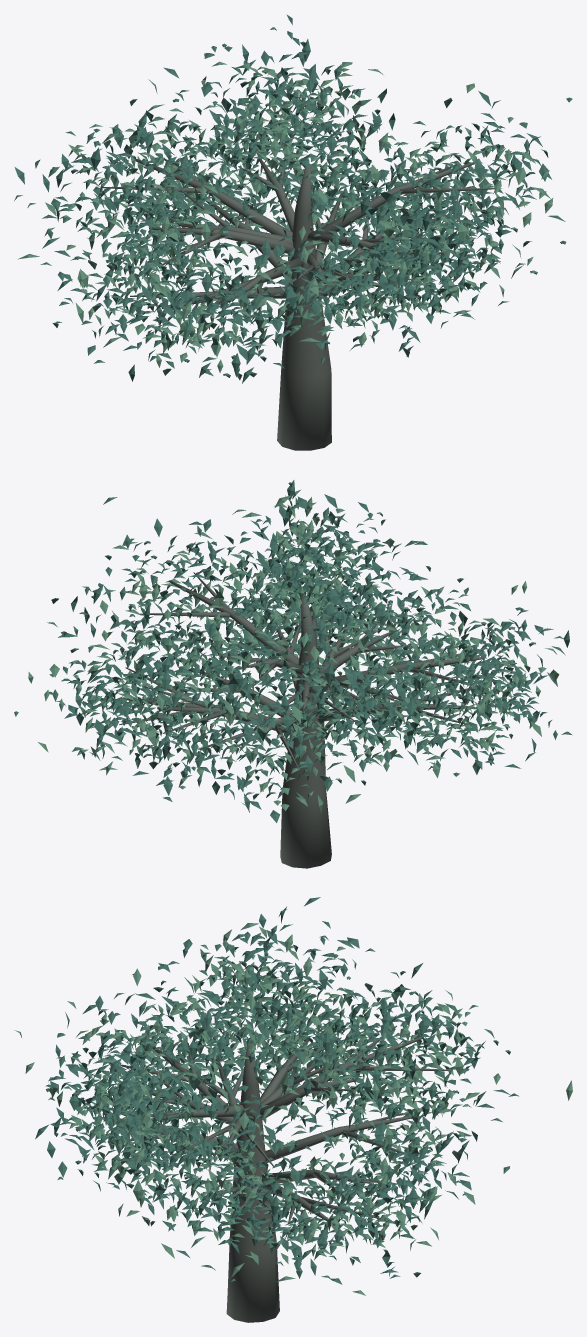
File: banyan.glb
3 renders of one model, top to bottom at view 1: azimuth 30°, elevation 25°; view 2: azimuth 150°, elevation 25°; view 3: azimuth 270°, elevation 25°, orthographic. The views are drawn at different scales.
Visible parts, largest first — view 1: Moonwater banyan leaves, Moonwater banyan branches; view 2: Moonwater banyan leaves, Moonwater banyan branches; view 3: Moonwater banyan leaves, Moonwater banyan branches.
Boxes of the visible parts, x1,y1,x2,y2 form: Moonwater banyan leaves: (14,14,572,383); Moonwater banyan branches: (102,157,495,450); Moonwater banyan leaves: (14,480,572,822); Moonwater banyan branches: (119,572,483,868); Moonwater banyan leaves: (14,897,572,1295); Moonwater banyan branches: (109,1025,449,1322).
Size of the model in its own units: 8.62 by 6.63 by 8.34.
